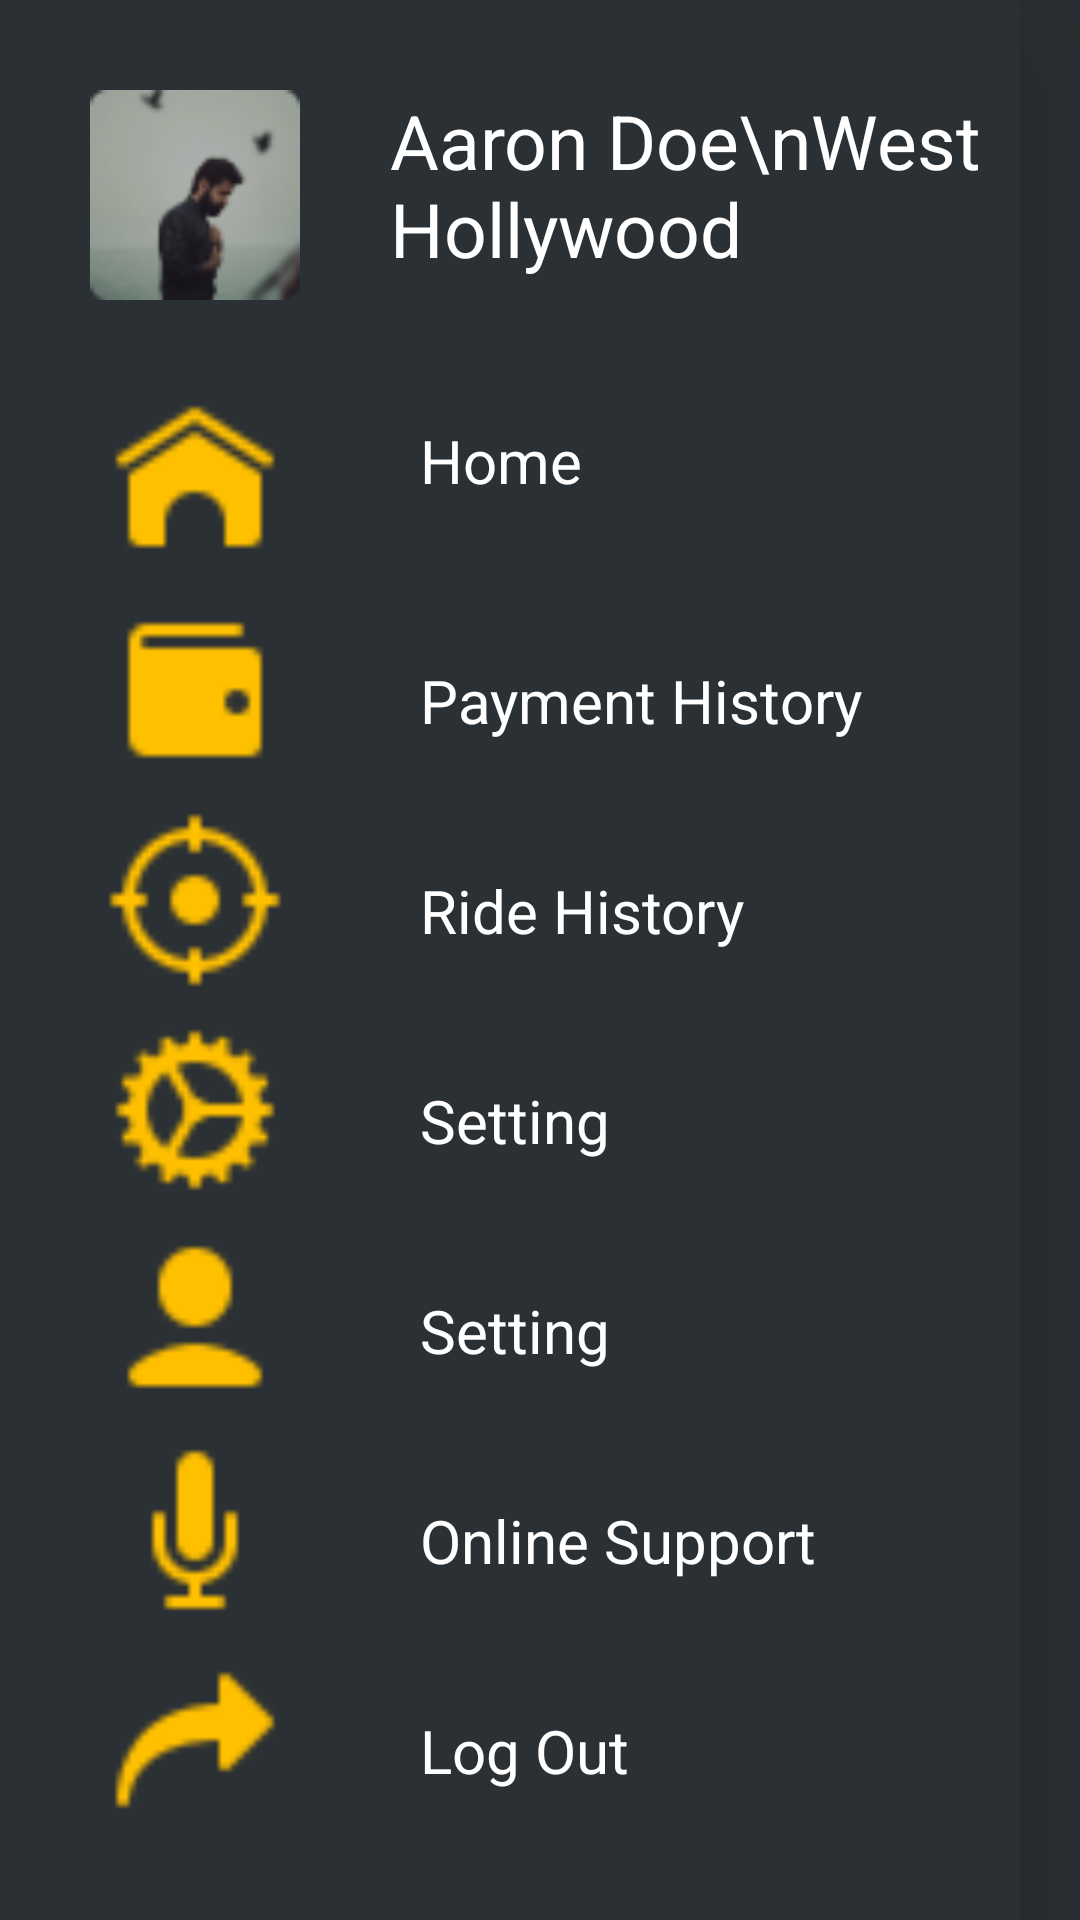

Icons on this 1080*1920 Android screen, each with the point to tap as (x=x, y=y):
forwerd: (x=195, y=1740)
house: (x=195, y=477)
location: (x=195, y=900)
microphone: (x=195, y=1530)
wallet: (x=195, y=690)
